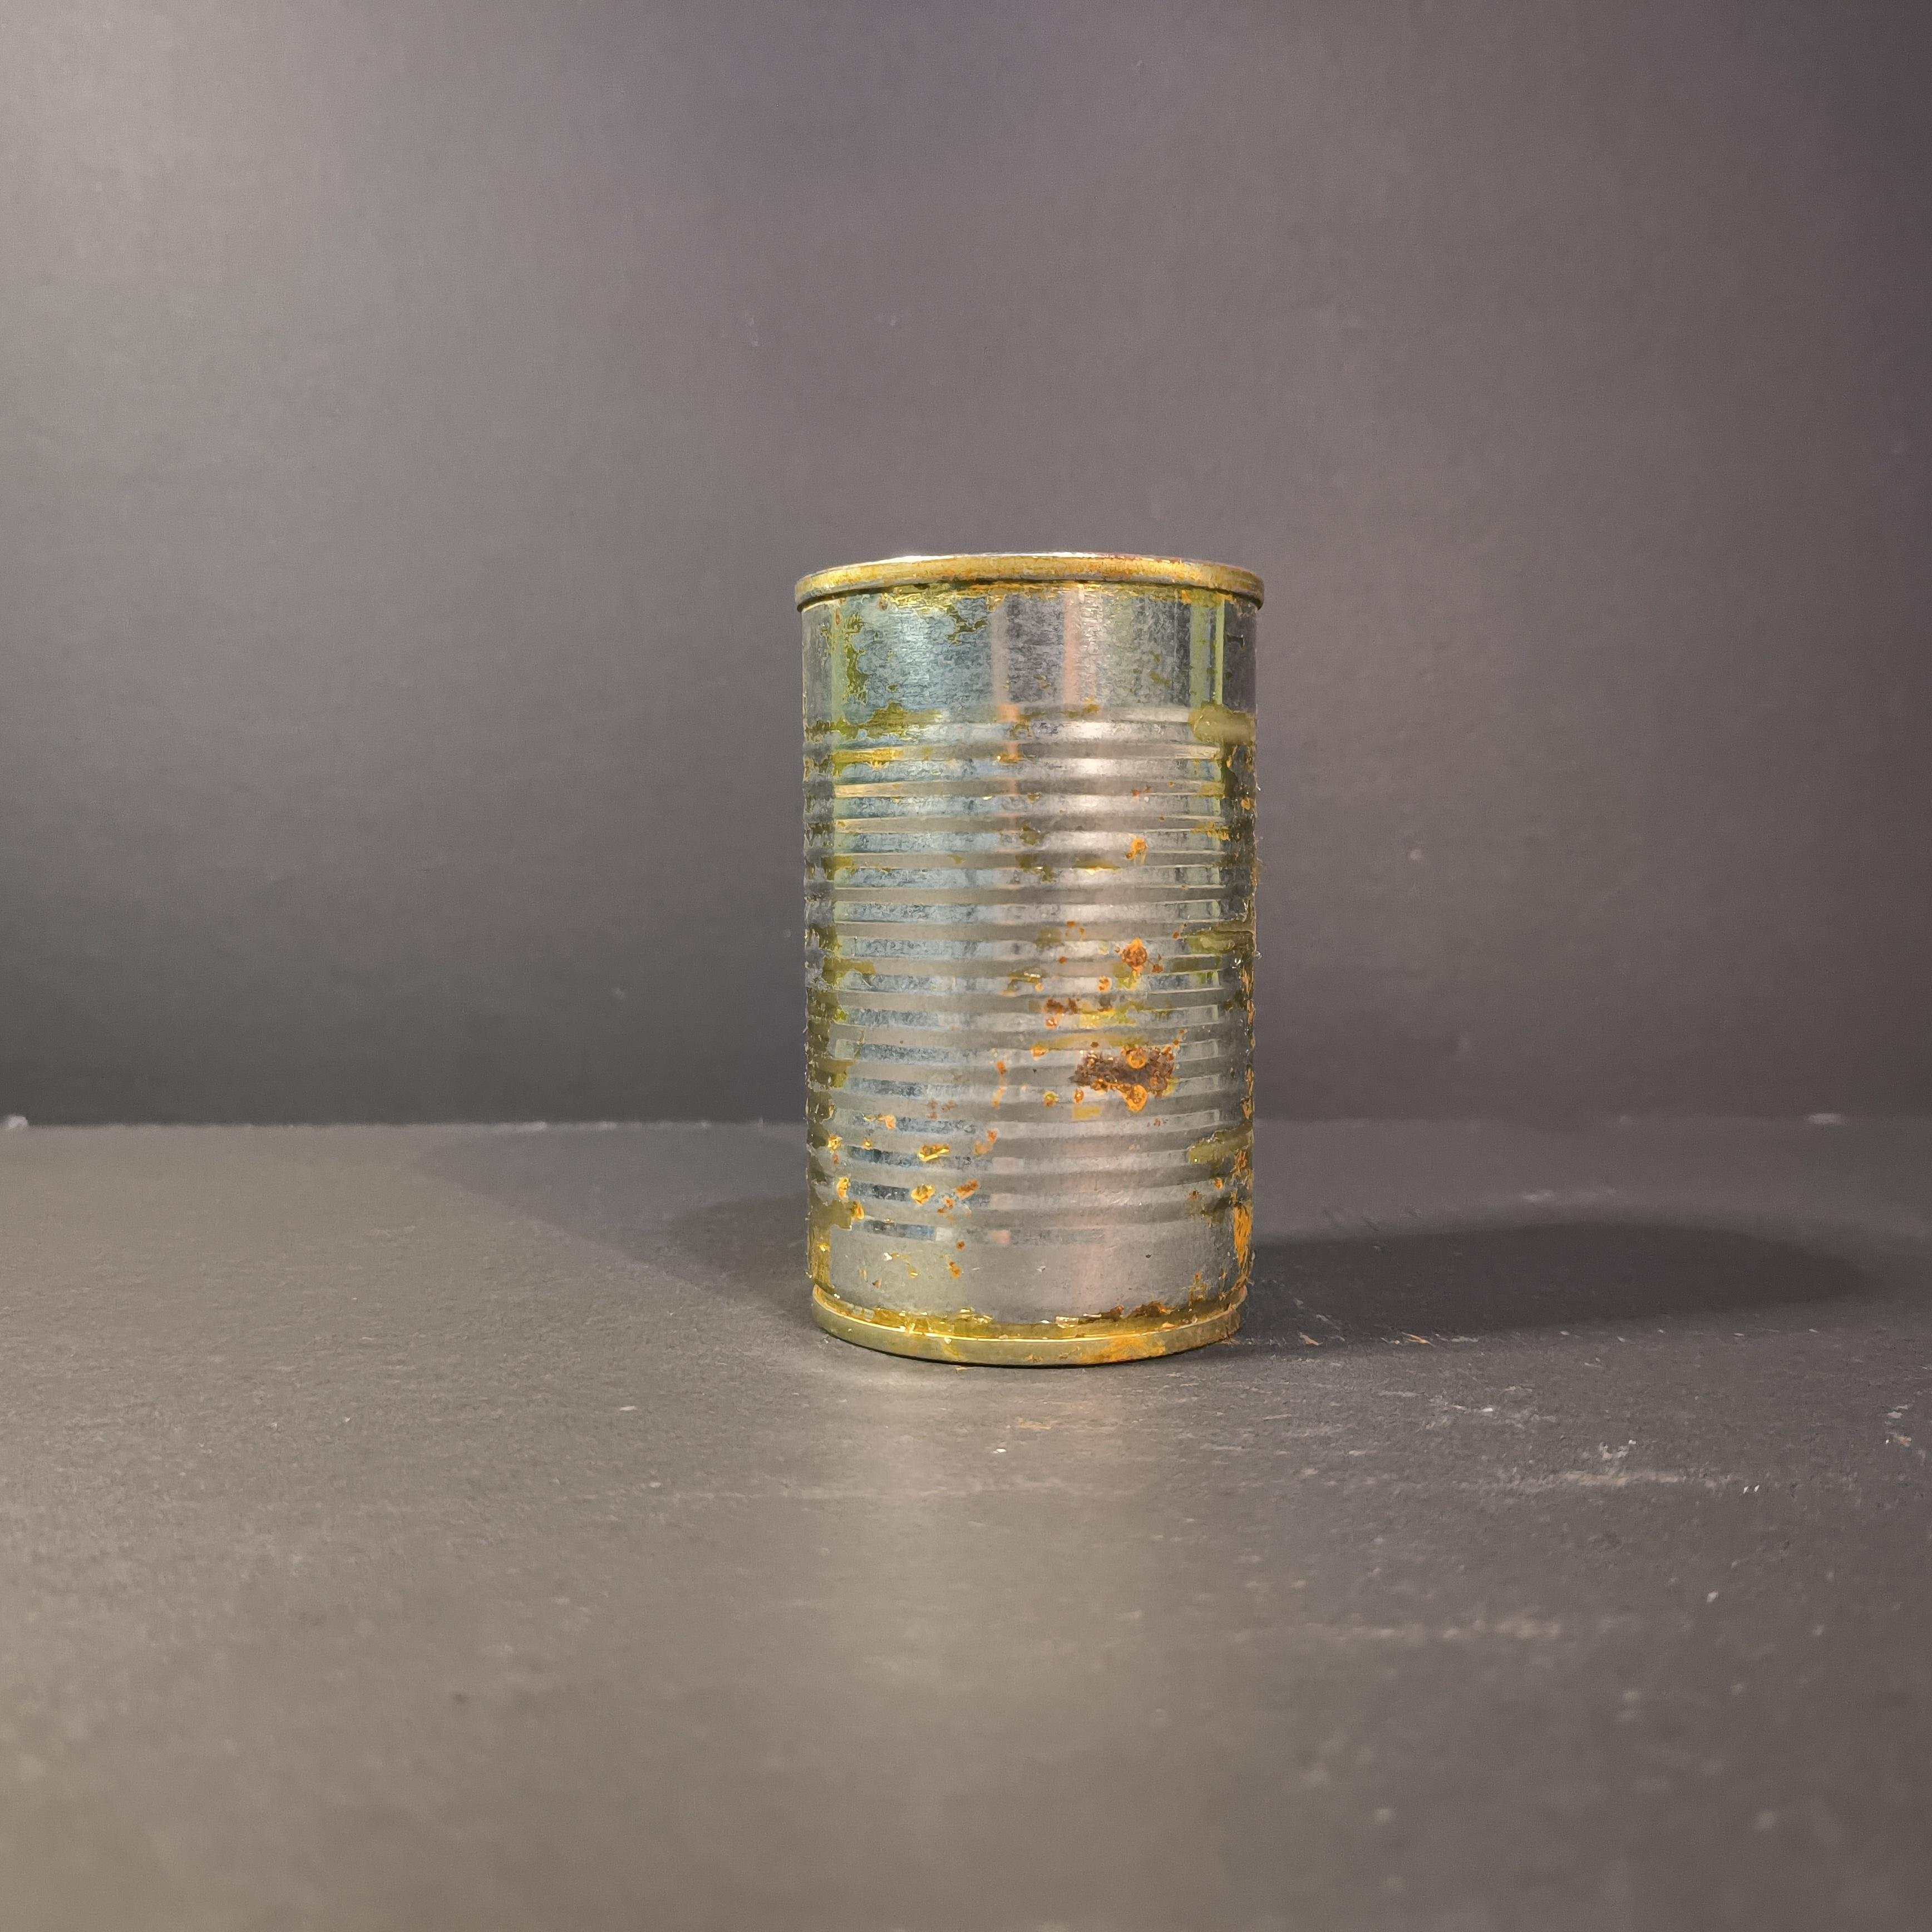Rusted: (784, 534, 1293, 1385)
